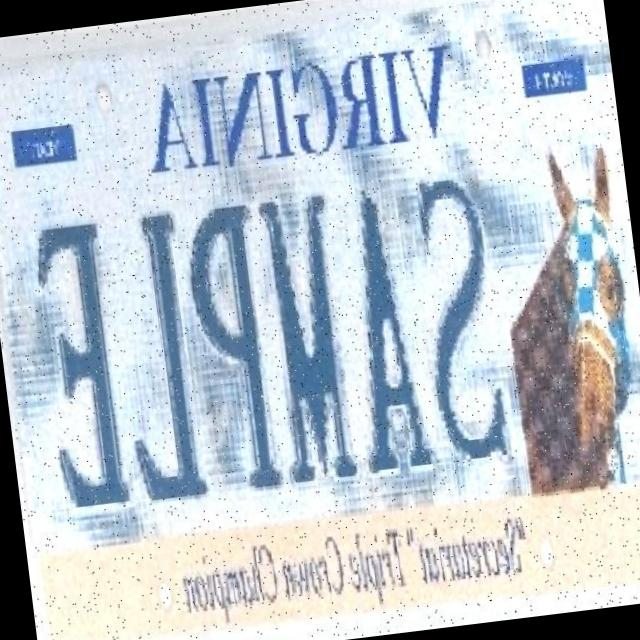LicensePlate: (14, 126, 520, 542)
